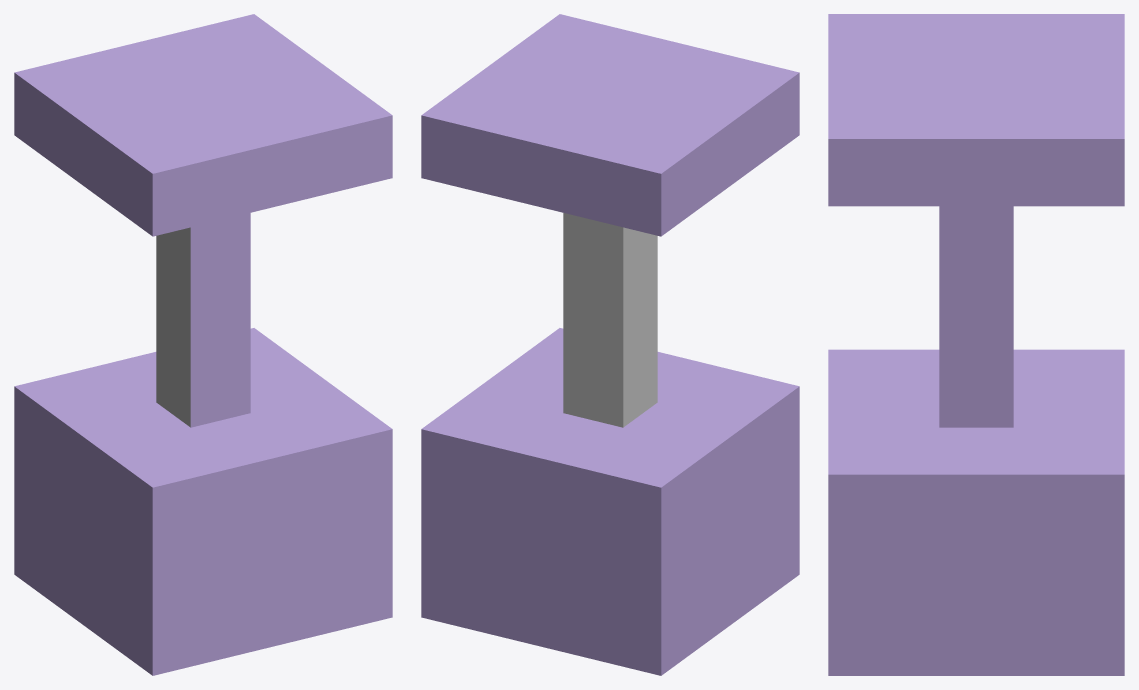
The model's file is Piston.fbx.
The picture shows the model from 3 angles, left to right: view 1: azimuth 30°, elevation 25°; view 2: azimuth 150°, elevation 25°; view 3: azimuth 270°, elevation 25°; orthographic projection. The views are drawn at different scales.
Parts seen in each view (by area): view 1: SketchUp.006; view 2: SketchUp.006; view 3: SketchUp.006.
Boxes of the visible parts, x1,y1,x2,y2 form: SketchUp.006: (14,14,392,675); SketchUp.006: (421,14,799,675); SketchUp.006: (828,14,1124,675).
Size of the model in its own units: 1 by 2 by 1.
